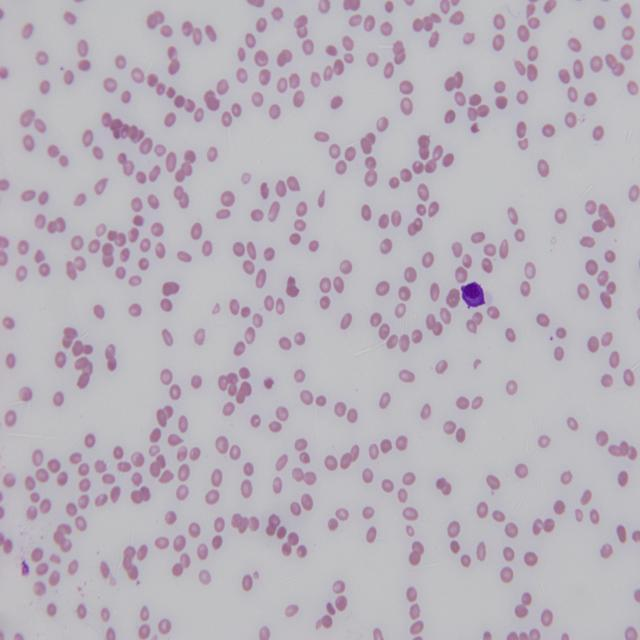cell: (461, 282, 485, 308)
